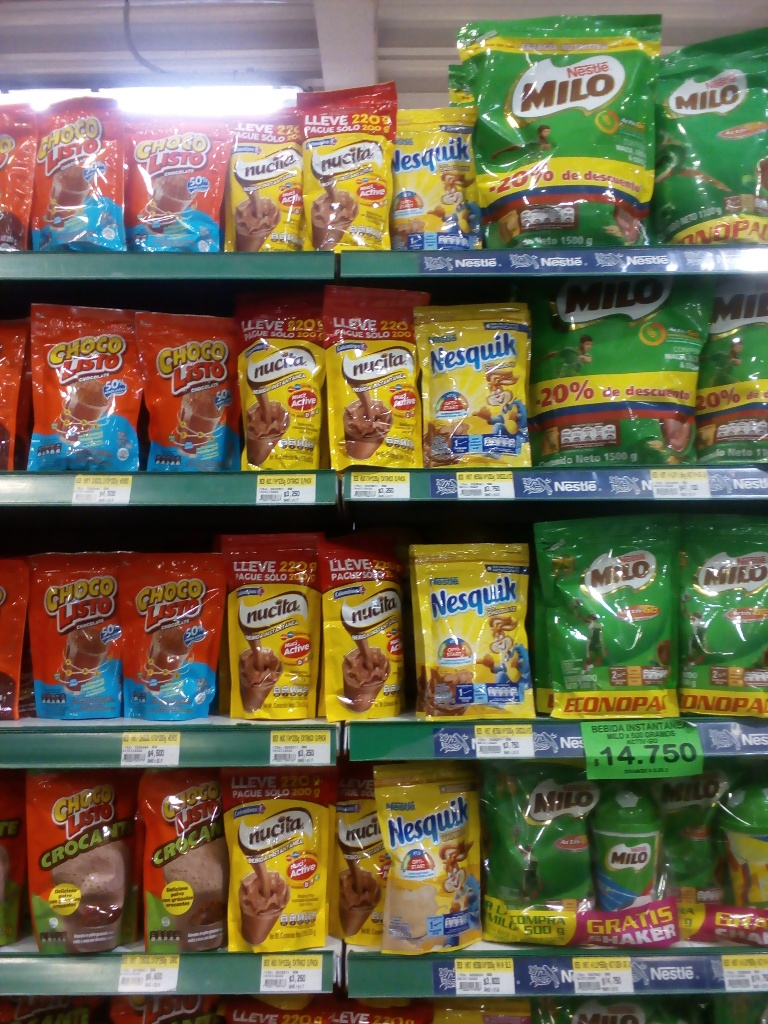COL0170104DYP20000: (30, 93, 130, 253)
COL0170303DYP20000: (399, 106, 488, 246)
COL0170306DYP20000: (367, 761, 483, 952)
